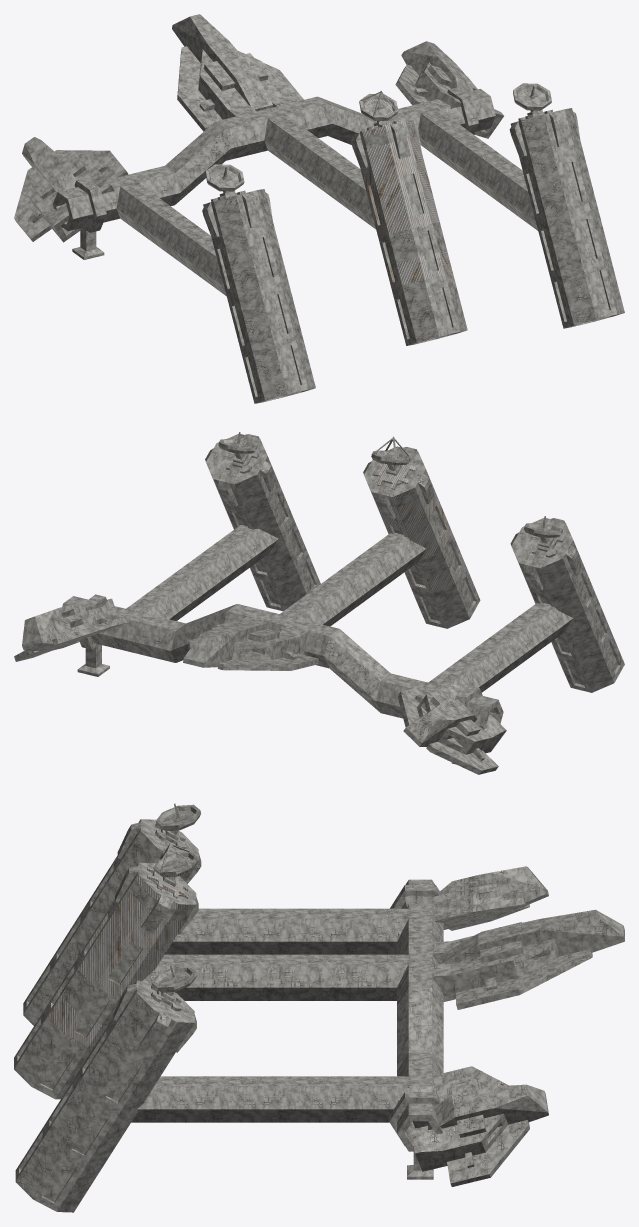
The model's file is rocket3.gltf.
3 renders of one model, top to bottom at view 1: azimuth 30°, elevation 25°; view 2: azimuth 150°, elevation 25°; view 3: azimuth 270°, elevation 25°, orthographic. The views are drawn at different scales.
Parts seen in each view (by area): view 1: mergedBlocks; view 2: mergedBlocks; view 3: mergedBlocks.
Boxes of the visible parts, <box> form: mergedBlocks: <box>14,14,624,403</box>; mergedBlocks: <box>14,432,624,774</box>; mergedBlocks: <box>14,803,624,1212</box>.
Bounding box in the file's own units: 9.13 × 4.59 × 9.1.
5 materials, 5 textured.
